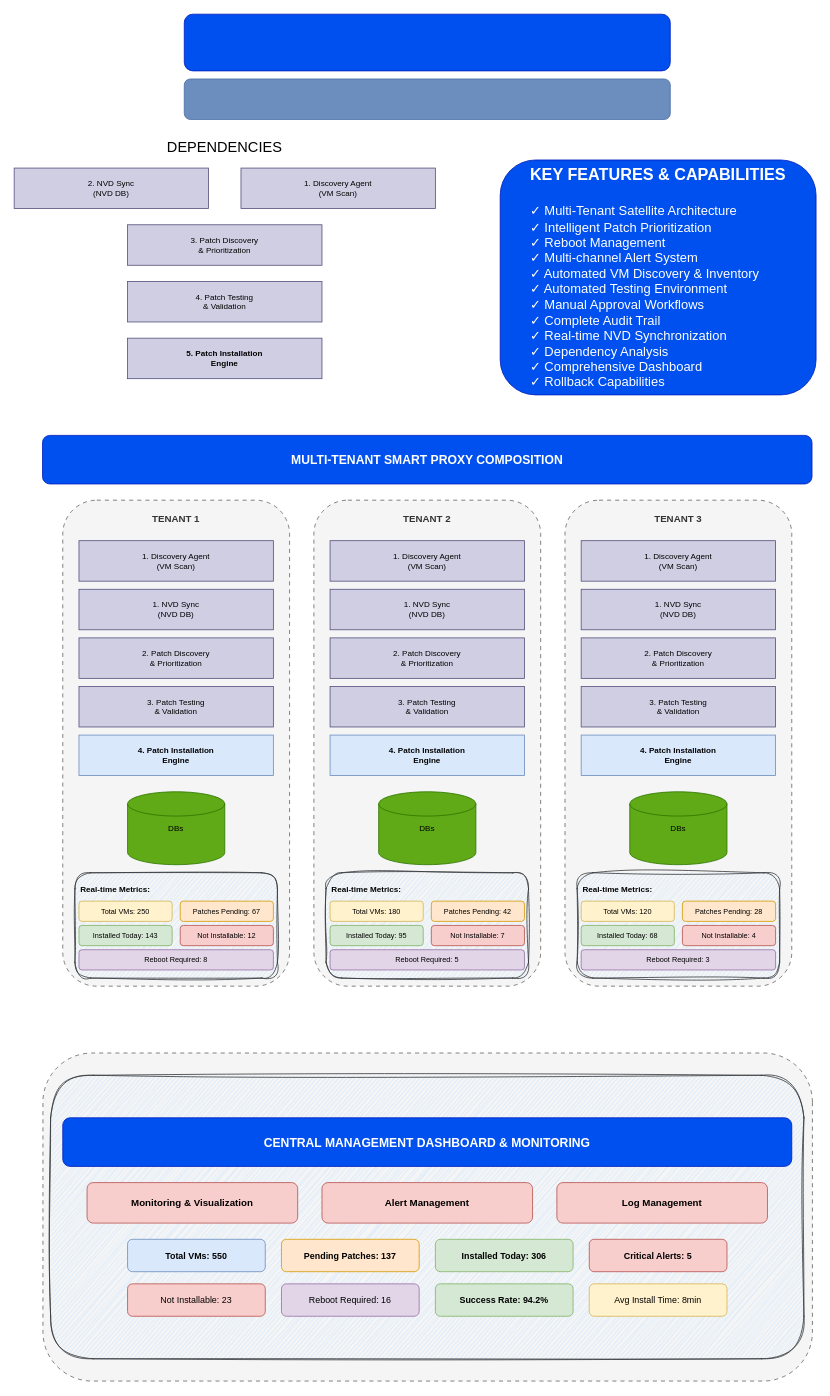
This 830x1396 diagram has some shape labels left out. Each missing label, with the box of its shape:
Multi-Tenant Satellite Architecture: (183, 78, 670, 119)
SECURITY PATCH MANAGER: (183, 13, 670, 71)
